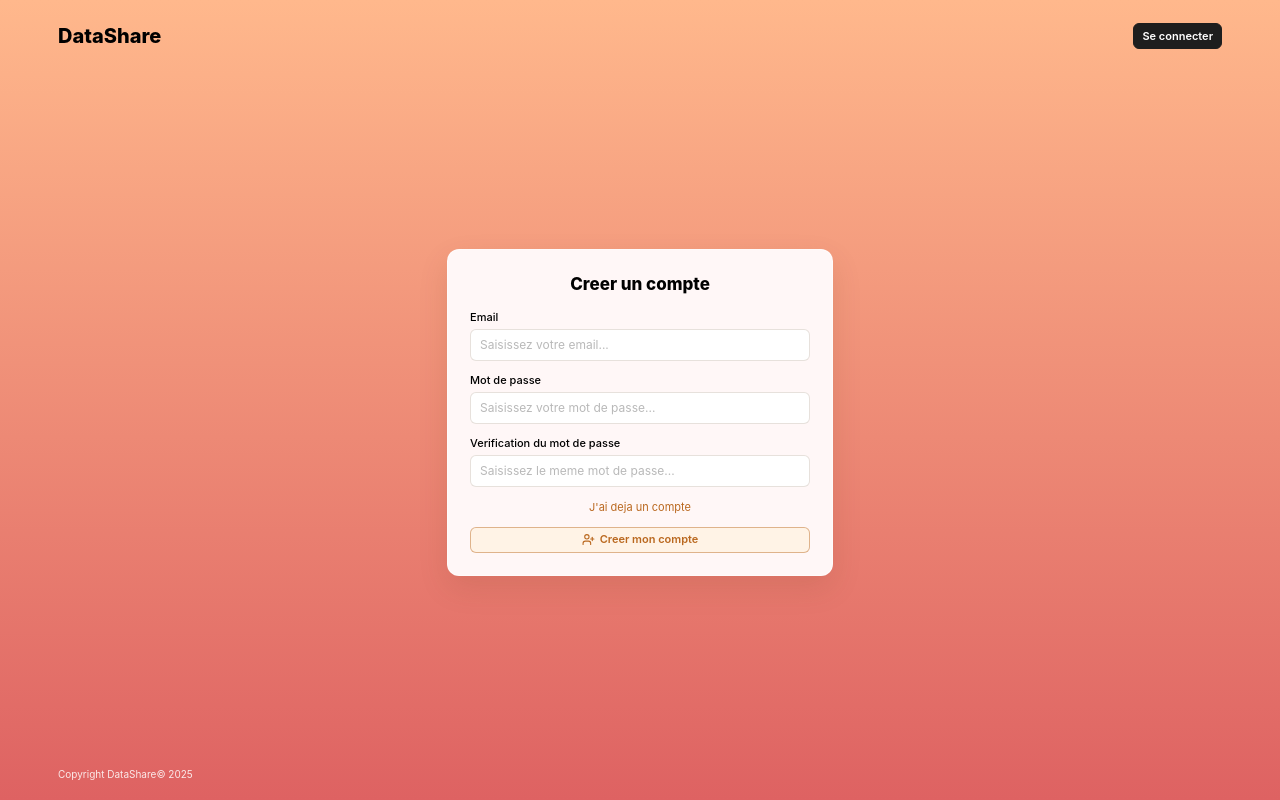
Test: RegisterPage › shows a clear client-side error for passwords shorter than 8 characters and does not submit
This screenshot has width=1280, height=800.
Type "user@example.com" into the field labelled "Email" at (640, 344), box top-left (470, 328), bottom-right (810, 360)
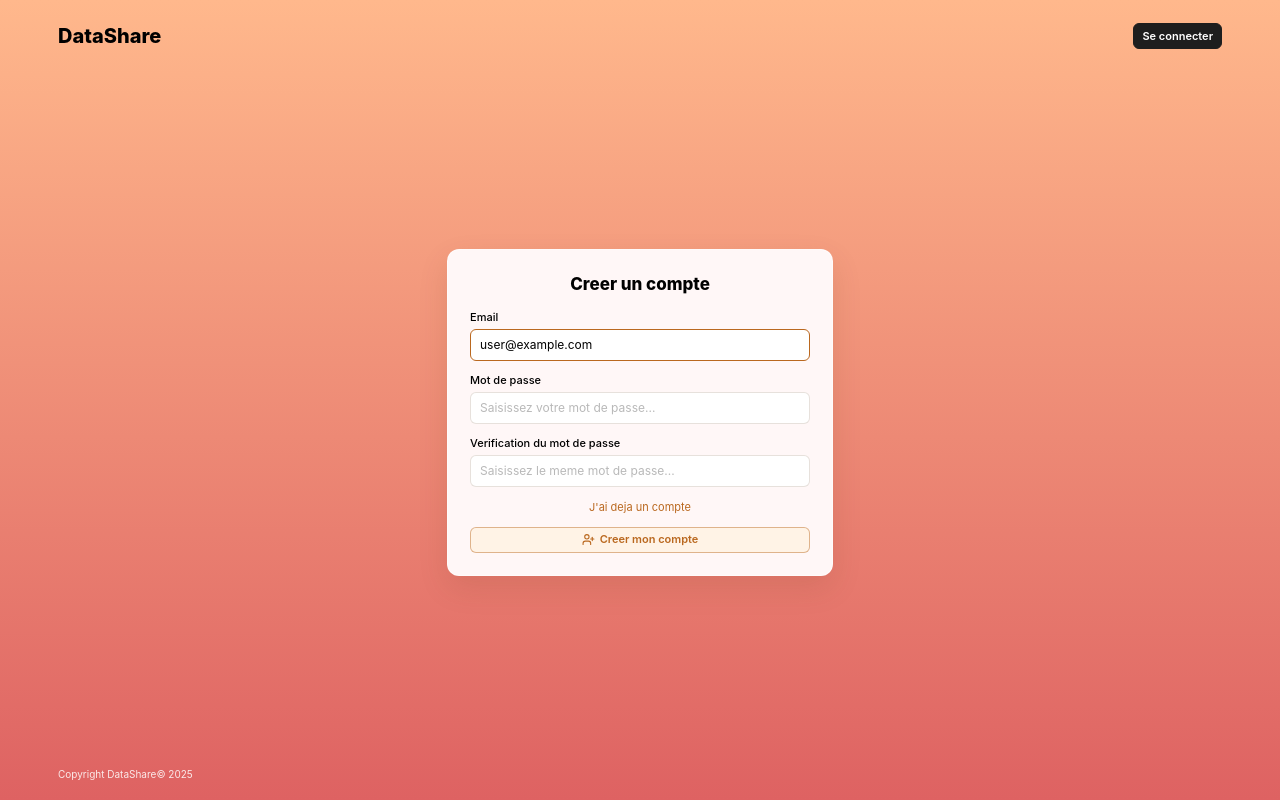
Type "short" into the password field labelled "Mot de passe" at (640, 408), box top-left (470, 392), bottom-right (810, 424)
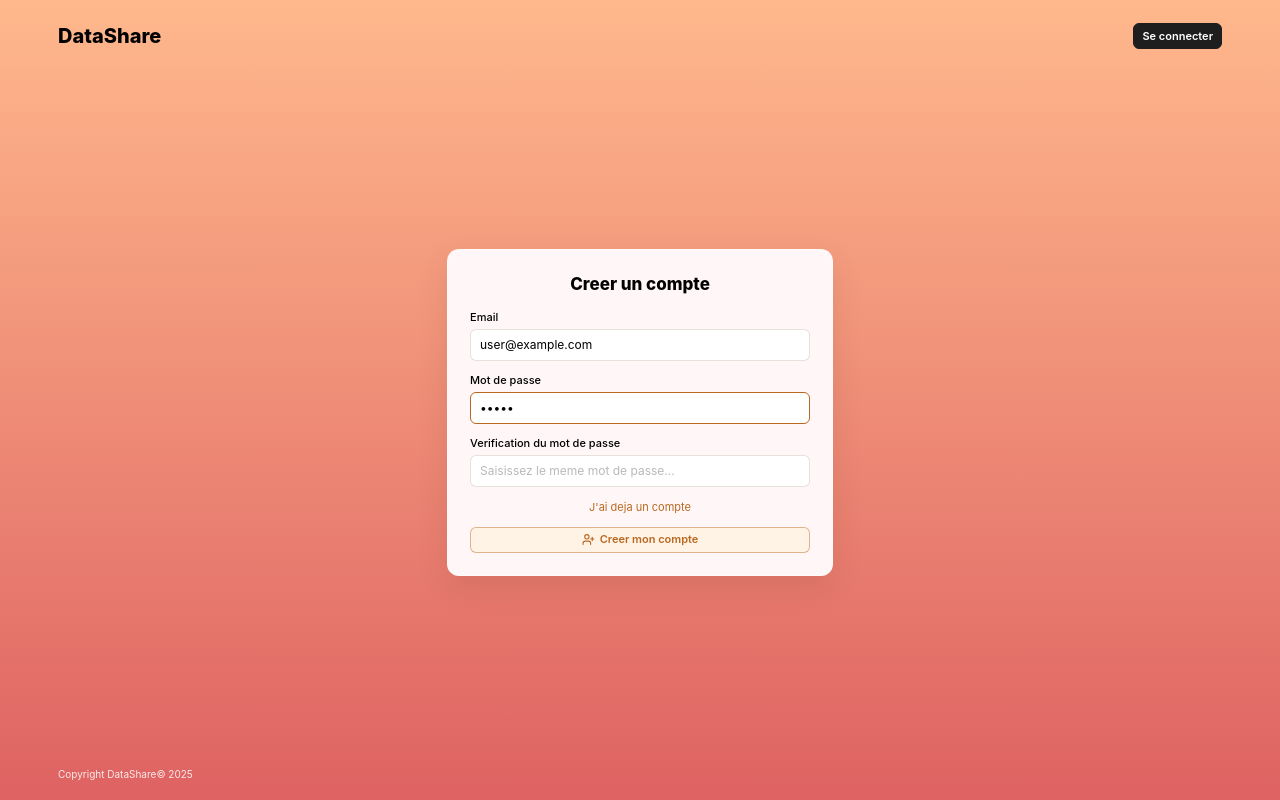
Type "short" into the password field labelled "Verification du mot de passe" at (640, 470), box top-left (470, 454), bottom-right (810, 486)
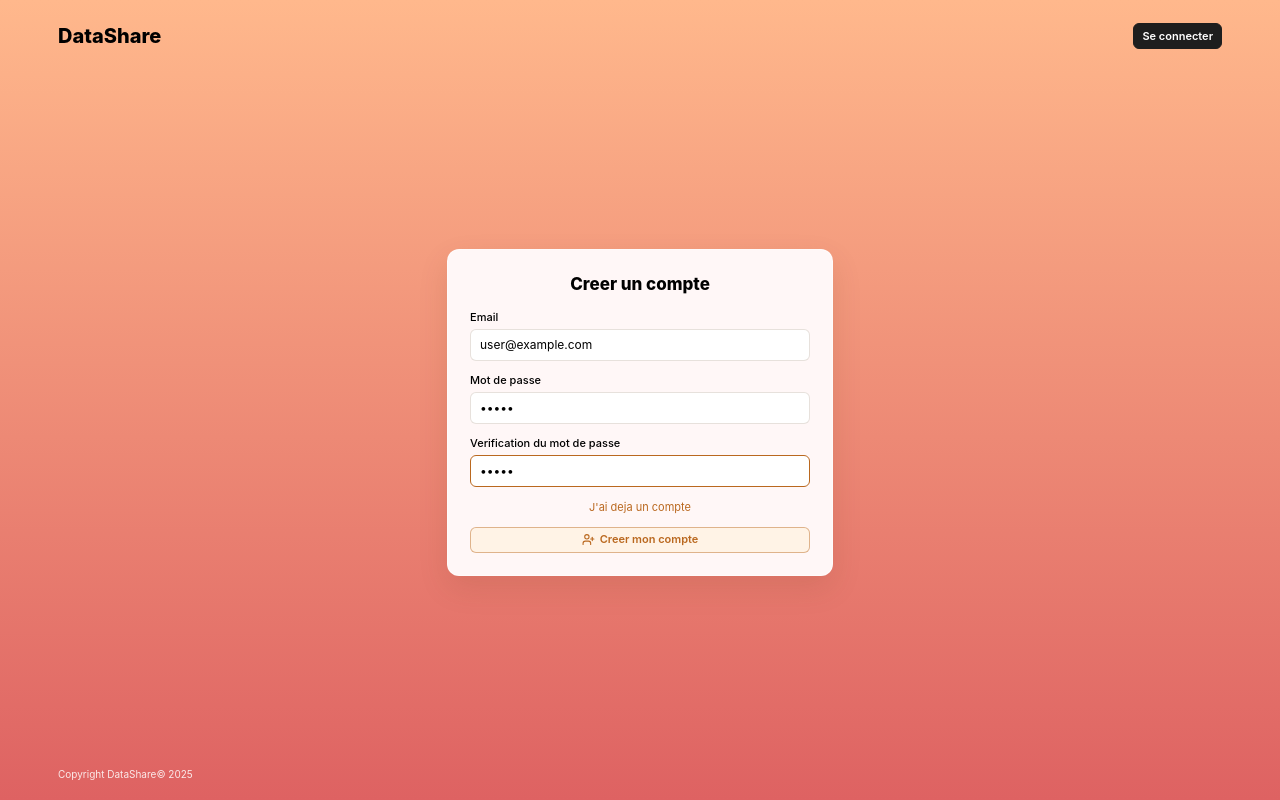
Click the button "Creer mon compte" at (640, 540), box top-left (470, 526), bottom-right (810, 552)
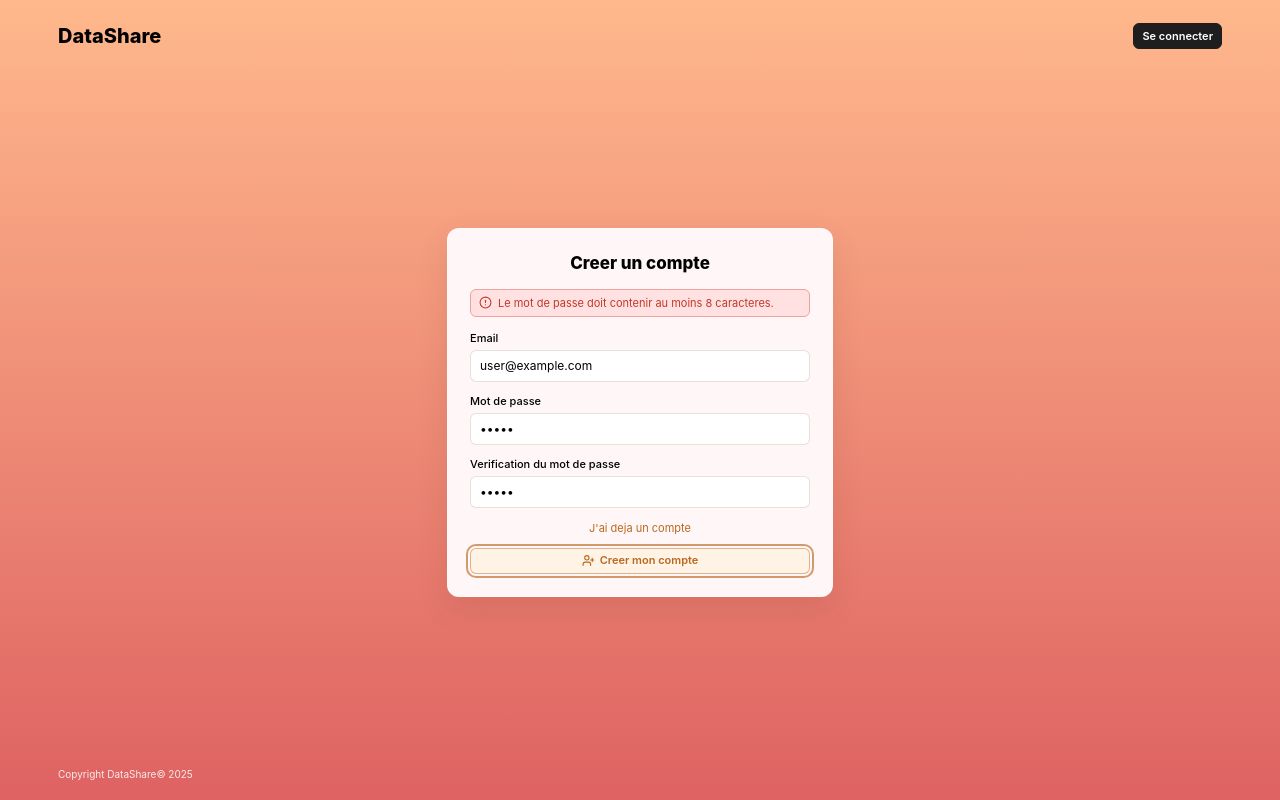
Expected: the text "Le mot de passe doit contenir au moins 8 caracteres." is shown, top-left (498, 296), bottom-right (774, 310)
